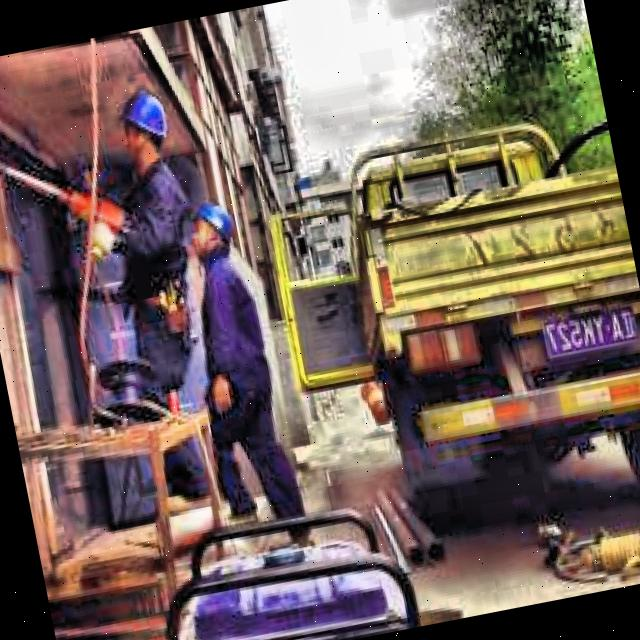helmet: (118, 90, 176, 164), (184, 198, 240, 267)
